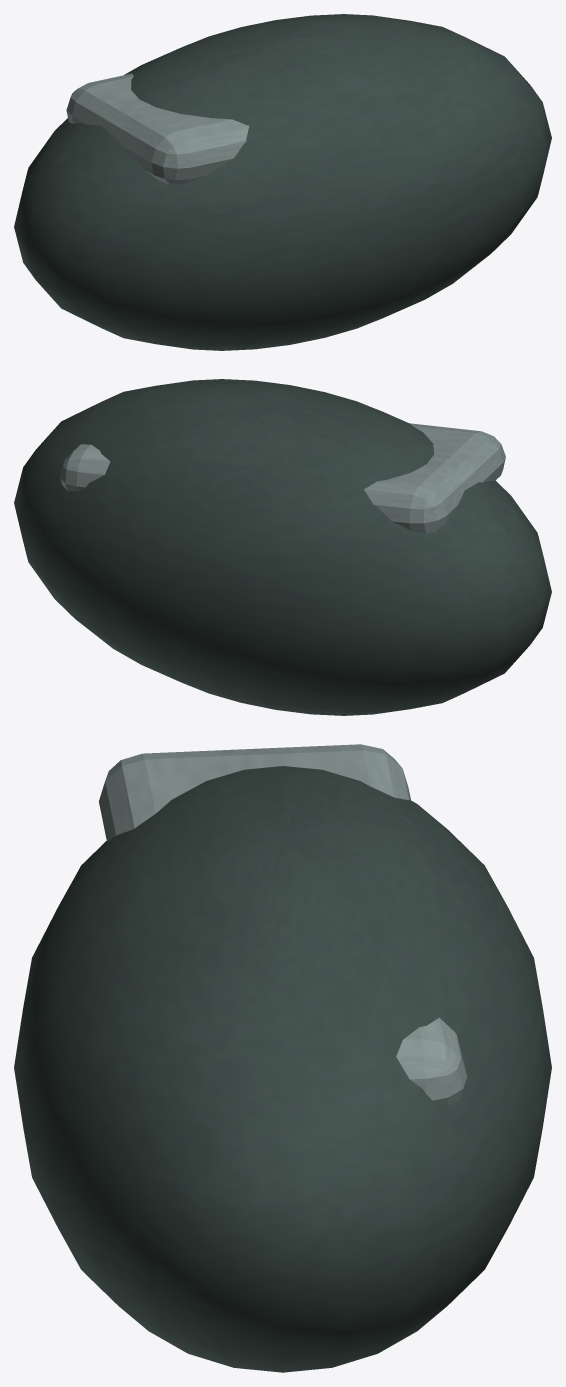
File: SM_boundary_stone.fbx
3 renders of one model, top to bottom at view 1: azimuth 30°, elevation 25°; view 2: azimuth 150°, elevation 25°; view 3: azimuth 270°, elevation 25°, orthographic. The views are drawn at different scales.
Parts seen in each view (by area): view 1: SM_boundary_stone; view 2: SM_boundary_stone; view 3: SM_boundary_stone.
Part boxes in pixels (<box>): SM_boundary_stone: <box>14,14,551,350</box>; SM_boundary_stone: <box>14,379,551,715</box>; SM_boundary_stone: <box>14,744,551,1372</box>.
Bounding box in the file's own units: 1.34 × 0.76 × 0.72.
